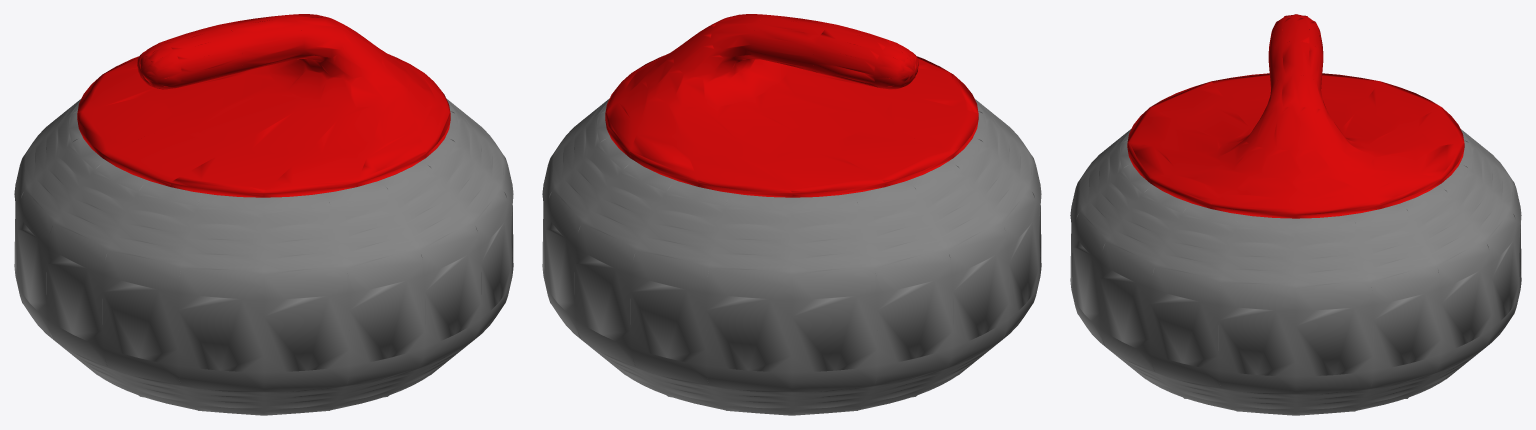
3 renders of one model, left to right at view 1: azimuth 30°, elevation 25°; view 2: azimuth 150°, elevation 25°; view 3: azimuth 270°, elevation 25°, orthographic. The views are drawn at different scales.
Visible parts, largest first — view 1: Cylinder003; view 2: Cylinder003; view 3: Cylinder003.
Part boxes in pixels (x1,y1,x2,y2): Cylinder003: (14, 14, 513, 415); Cylinder003: (542, 14, 1041, 415); Cylinder003: (1070, 14, 1521, 415).
Size of the model in its own units: 274 by 194 by 273.
